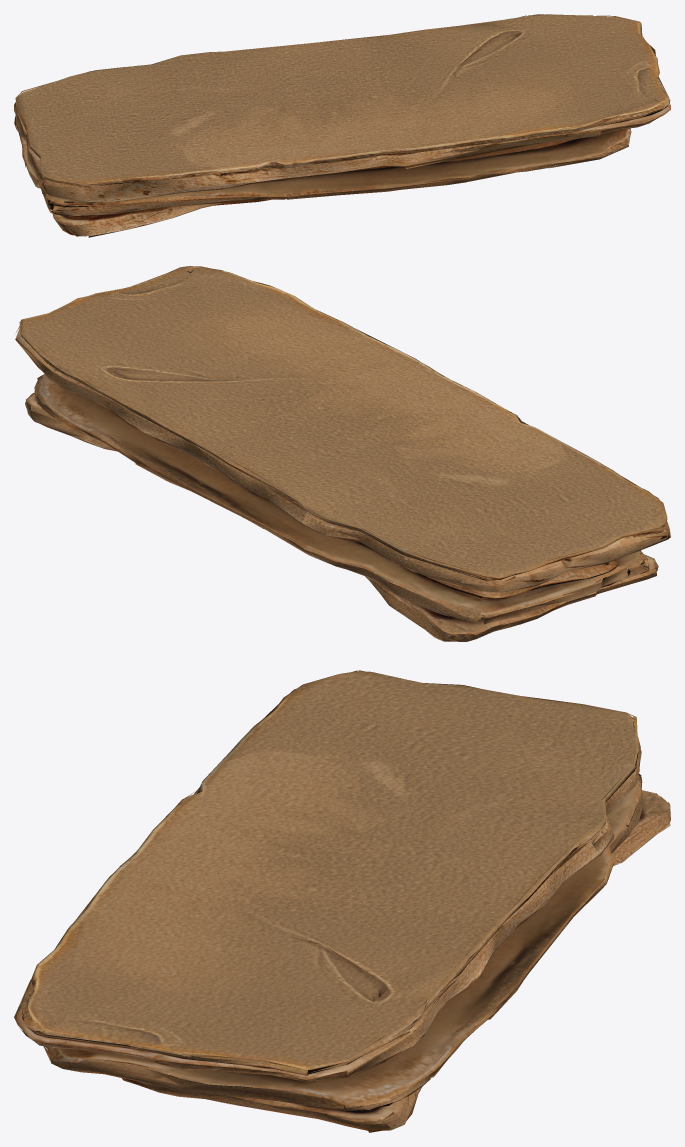
The model's file is desert_ledge_a_flat.glb.
The picture shows the model from 3 angles, top to bottom: view 1: azimuth 30°, elevation 25°; view 2: azimuth 150°, elevation 25°; view 3: azimuth 270°, elevation 25°; orthographic projection. The views are drawn at different scales.
Visible parts, largest first — view 1: desert_ledge_a_flat; view 2: desert_ledge_a_flat; view 3: desert_ledge_a_flat.
Boxes of the visible parts, bbox=[...] form: desert_ledge_a_flat: bbox=[14, 14, 670, 237]; desert_ledge_a_flat: bbox=[15, 266, 670, 641]; desert_ledge_a_flat: bbox=[14, 670, 670, 1132].
Size of the model in its own units: 5.16 by 0.707 by 3.25.
Materials: 1 (1 with a texture image).
